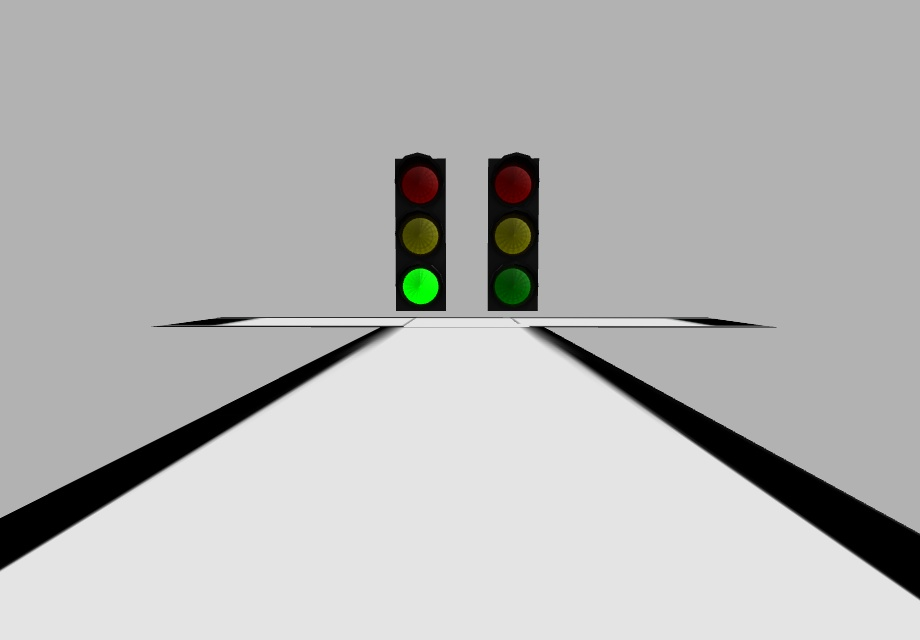green_off: (495, 266, 532, 307)
green_on: (400, 268, 439, 309)
